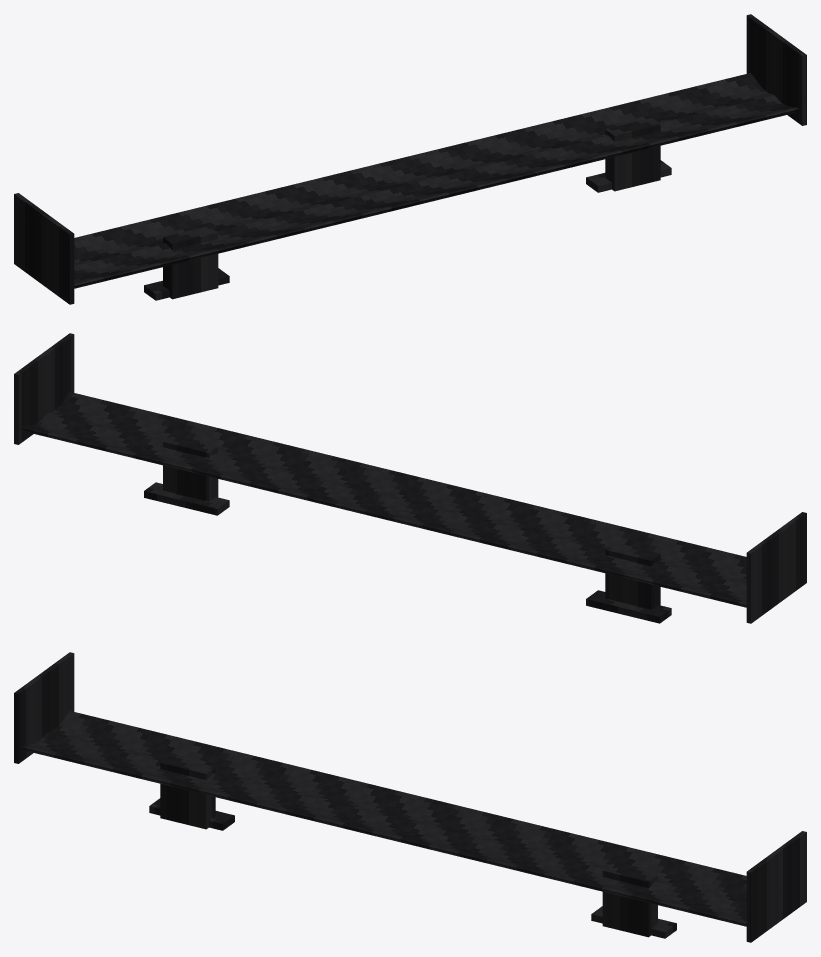
The model's file is wing_blade.obj.
The picture shows the model from 3 angles, top to bottom: view 1: azimuth 30°, elevation 25°; view 2: azimuth 150°, elevation 25°; view 3: azimuth 330°, elevation 25°; orthographic projection.
Size of the model in its own units: 1.6 by 0.23 by 0.21.
Materials: 1 (1 with a texture image).
